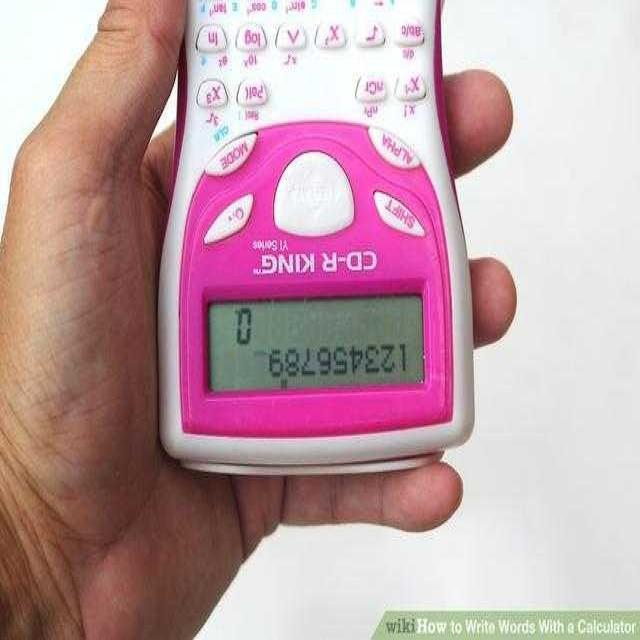Calculator: (160, 0, 473, 473)
